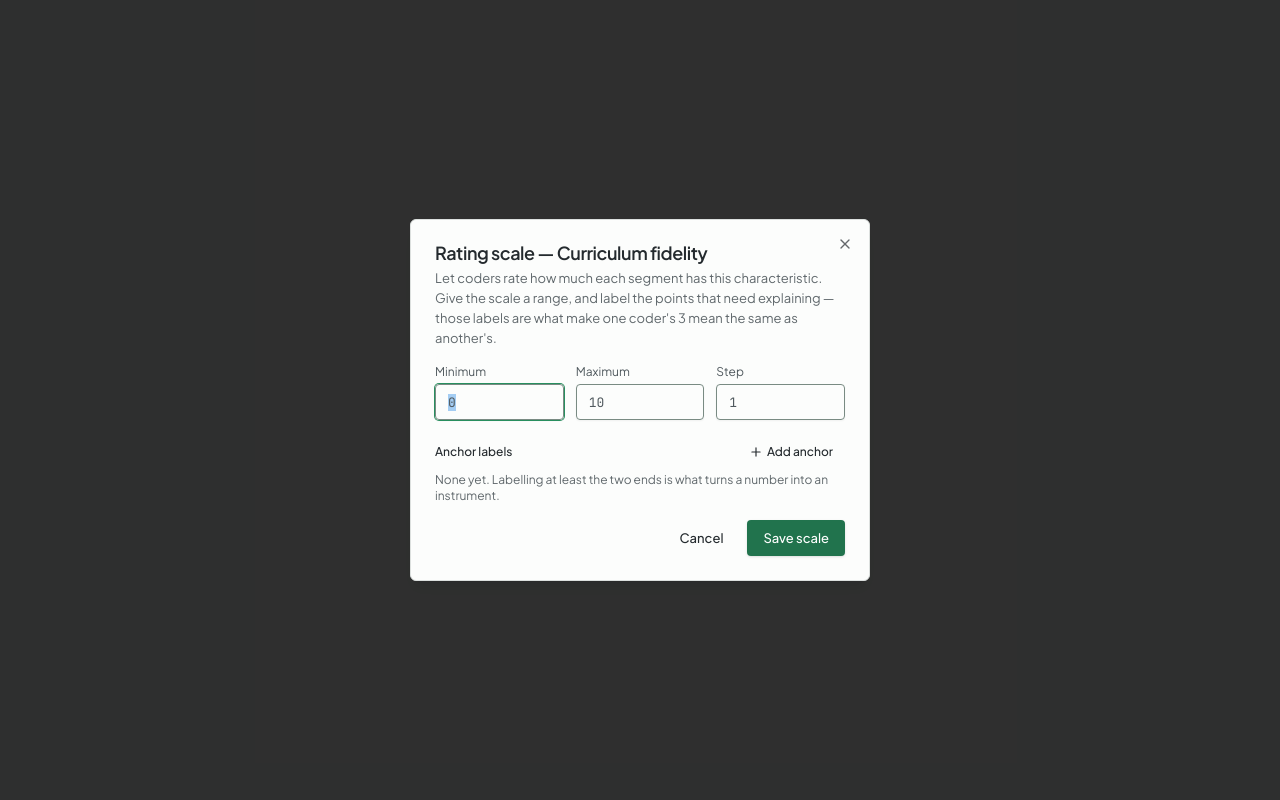
Test: MagnitudeScaleDialog — what the declaration will mean (#1113/#1114) › says when an anchor sits between the points, and stays quiet for one on a point
Replace the text in the field labelled "Step" with "2" at [781, 402], box x1=716 y1=384 x2=845 y2=420
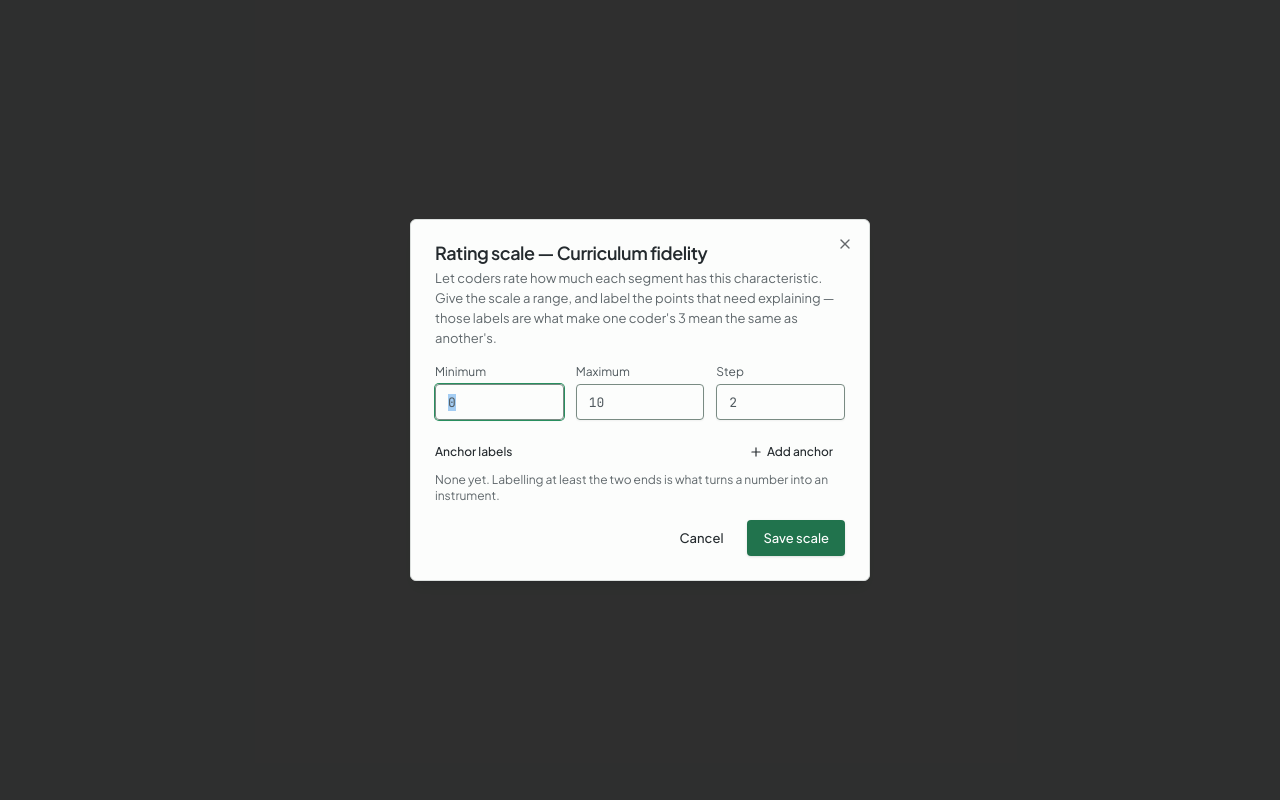
Click the button "Add anchor" at [791, 452], box x1=737 y1=436 x2=845 y2=468
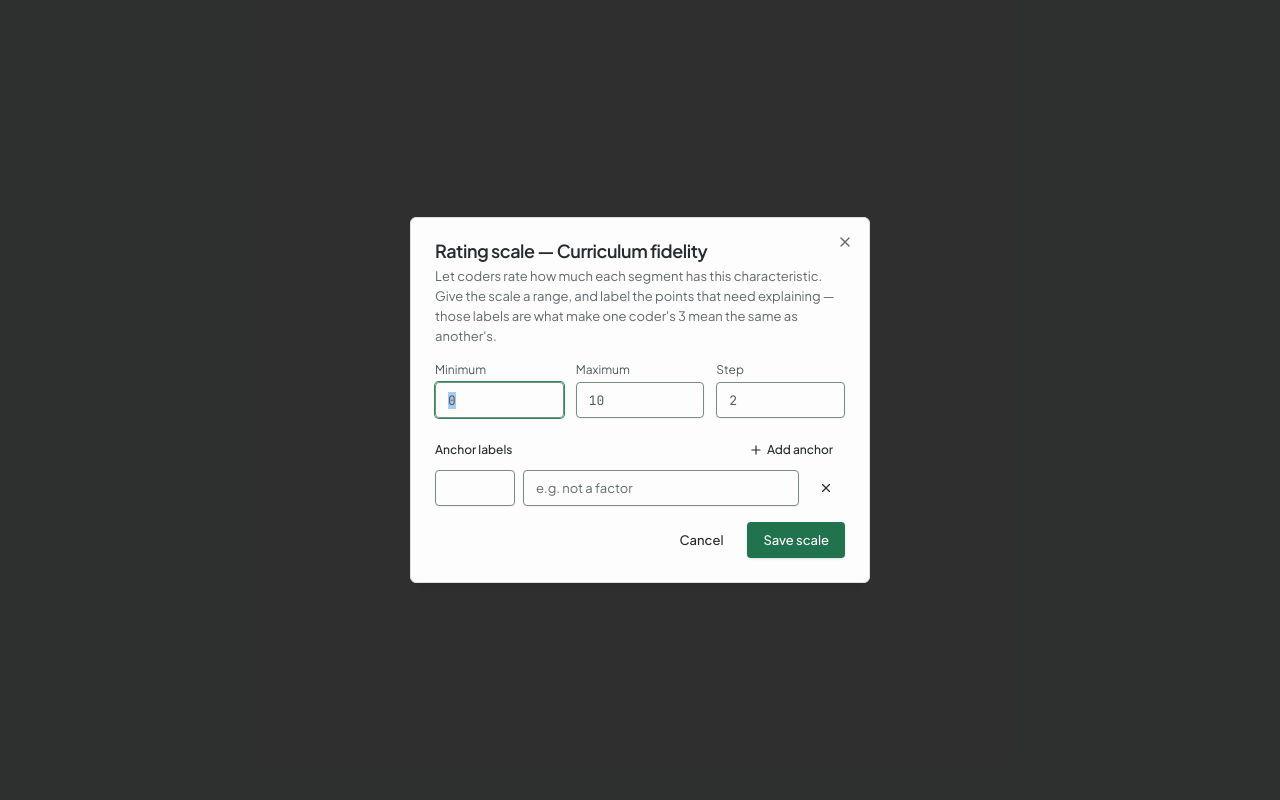
Type "4" into the field named "Anchor 1 value" at [475, 488], box x1=435 y1=470 x2=515 y2=506
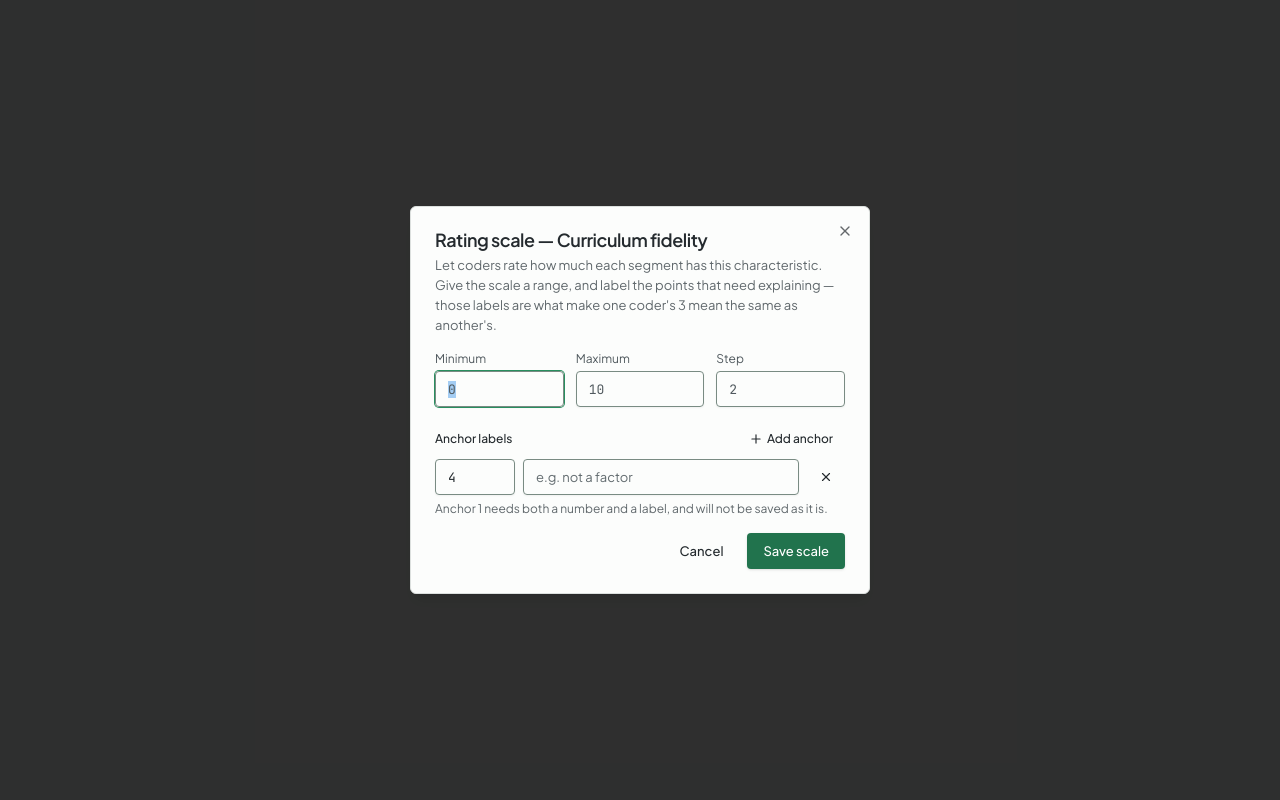
Type "some" into the field named "Anchor 1 label" at [661, 477], box x1=523 y1=459 x2=799 y2=495
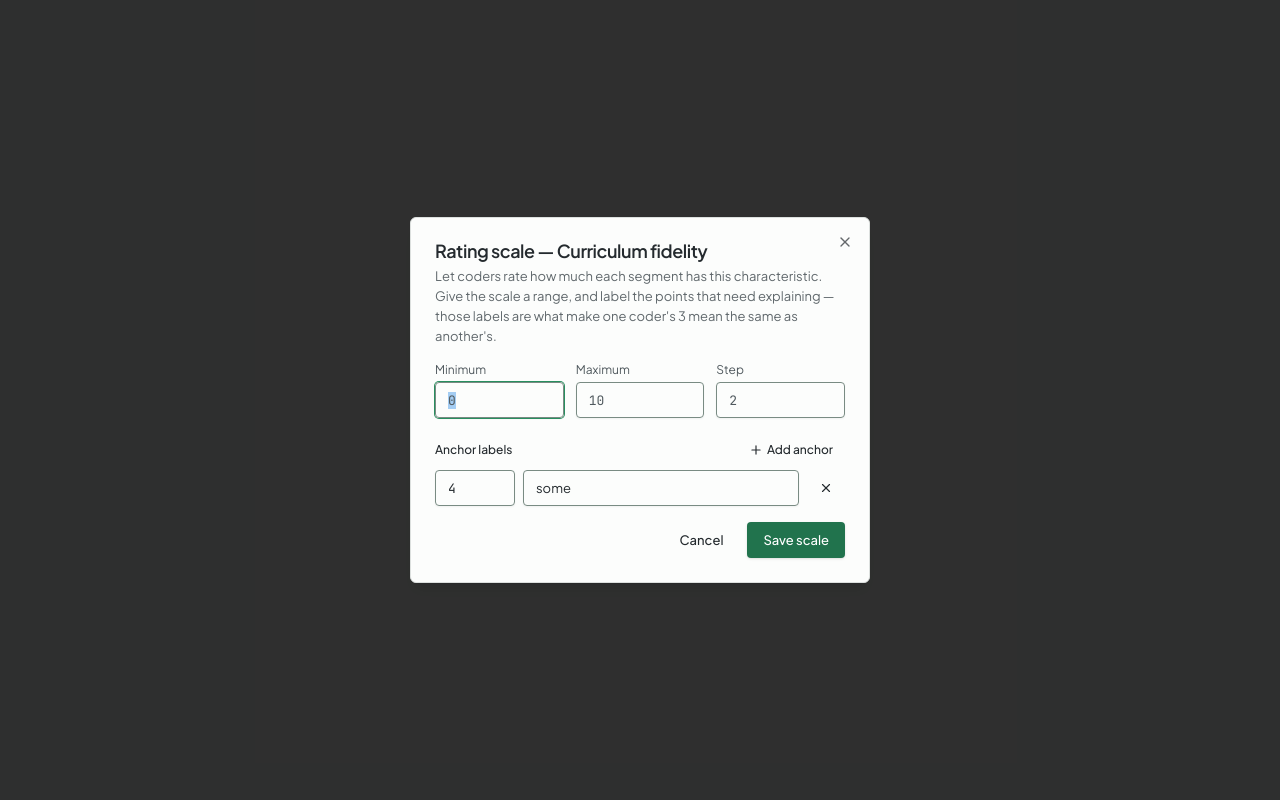
Expected: the text "between the scale's points" is not shown
Replace the text in the field named "Anchor 1 value" with "5" at [475, 488], box x1=435 y1=470 x2=515 y2=506
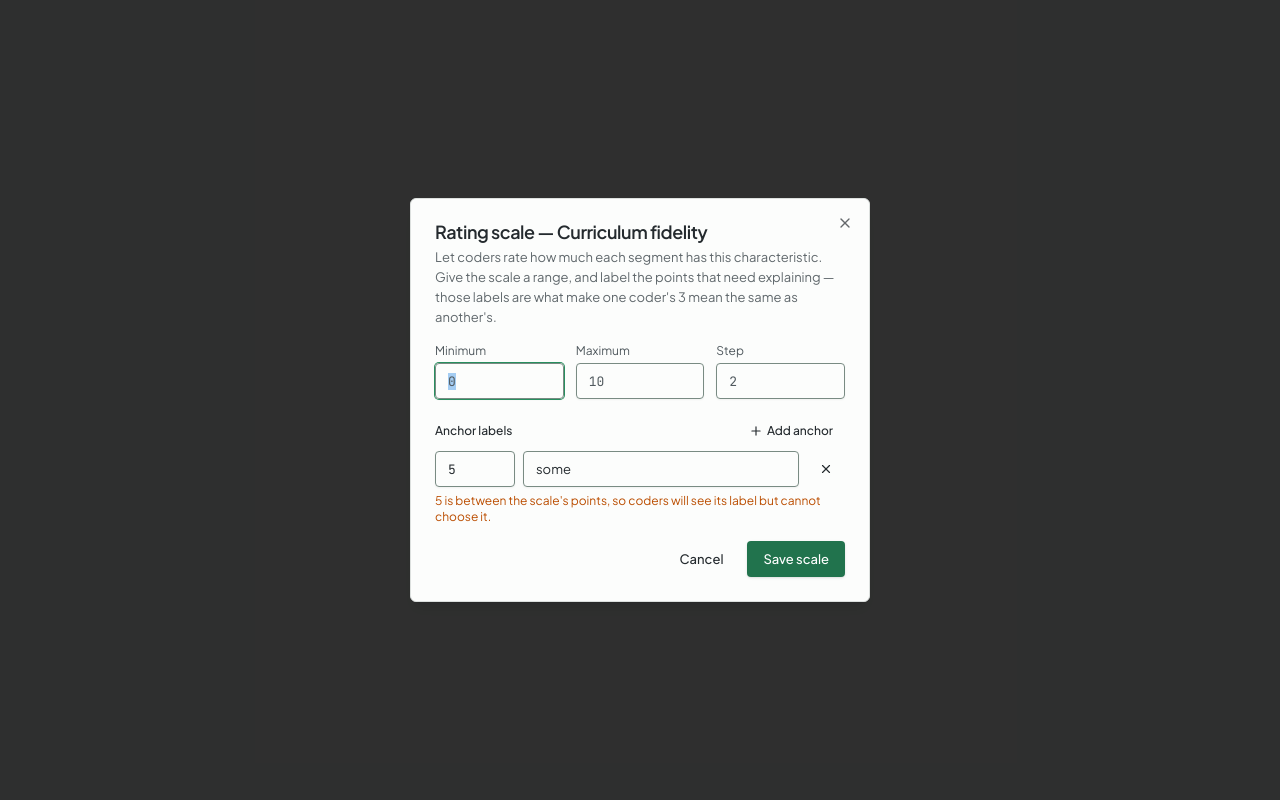
Result: the text "5 is between the scale's points" is shown at x1=435 y1=493 x2=845 y2=525
